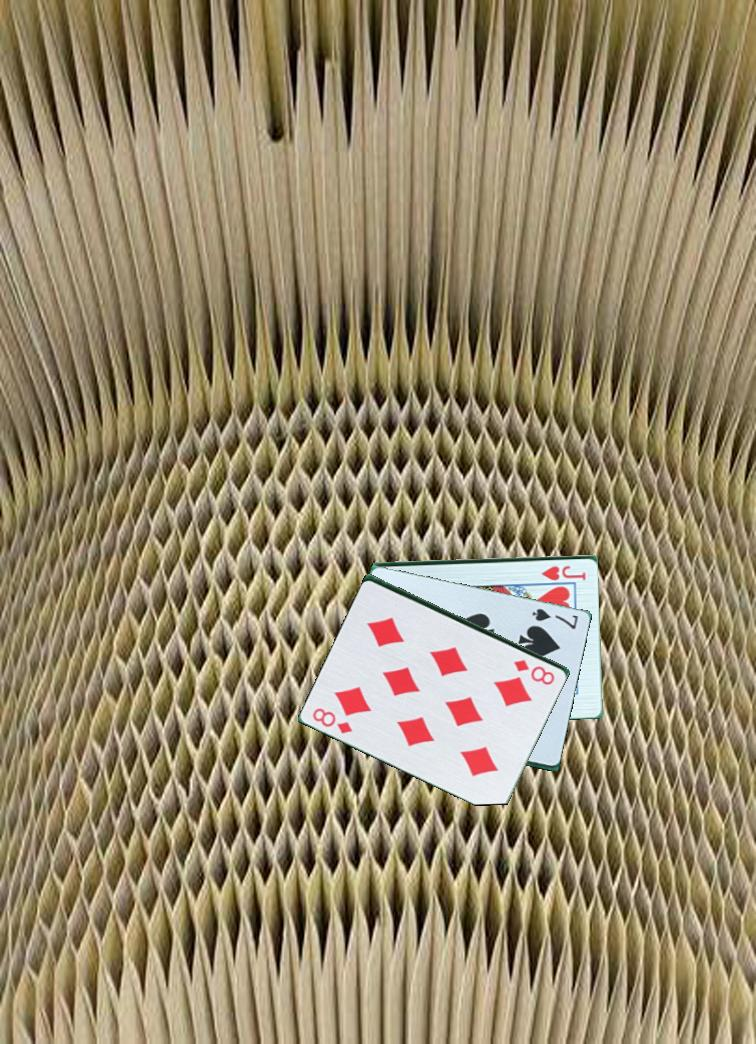7s: (529, 604, 581, 632)
8d: (510, 656, 563, 687), (309, 704, 356, 737)
jh: (538, 562, 589, 581)
